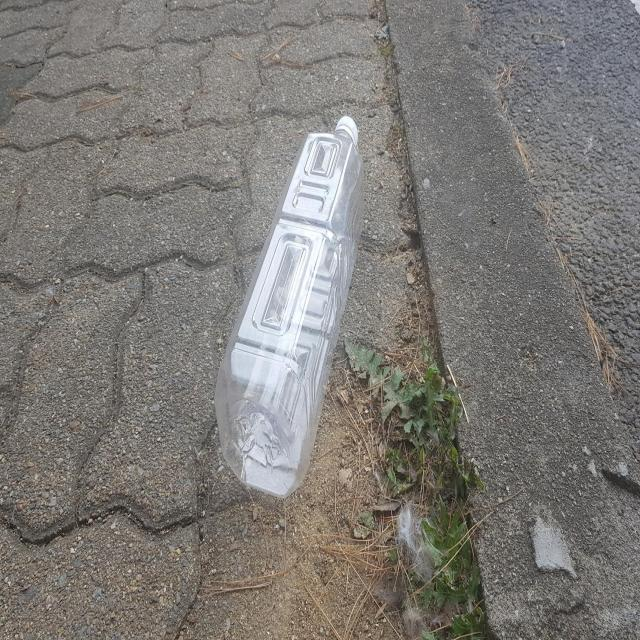plastic: (214, 116, 364, 498)
